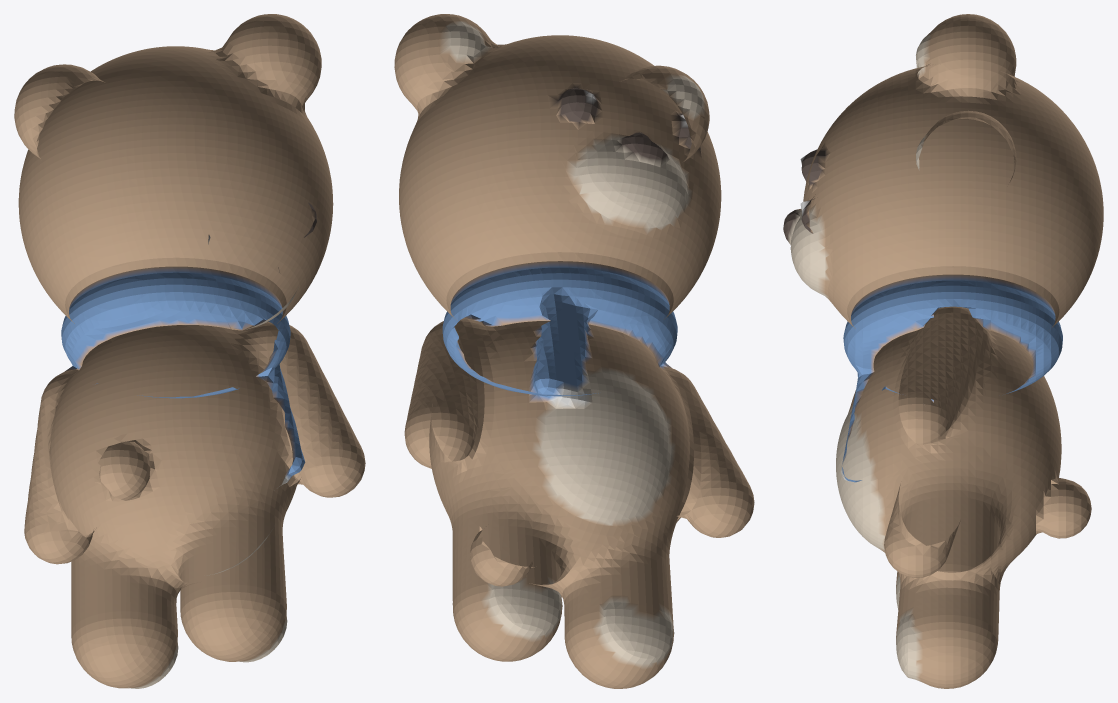
The model's file is bear.glb.
The picture shows the model from 3 angles, left to right: view 1: azimuth 30°, elevation 25°; view 2: azimuth 150°, elevation 25°; view 3: azimuth 270°, elevation 25°; orthographic projection. The views are drawn at different scales.
Parts seen in each view (by area): view 1: world; view 2: world; view 3: world.
Part boxes in pixels (x1,y1,x2,y2): world: [14, 14, 365, 688]; world: [394, 14, 754, 688]; world: [783, 14, 1103, 688].
Bounding box in the file's own units: 1.22 × 2.17 × 1.06.
